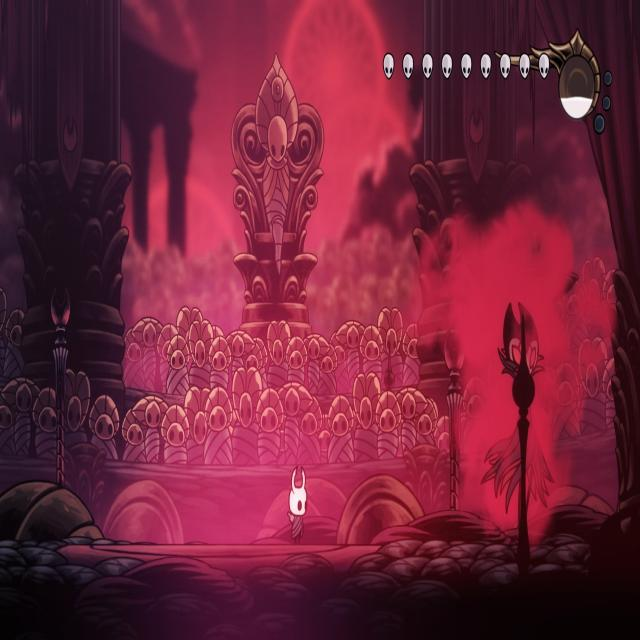Grimm: (476, 304, 556, 537)
Player: (285, 460, 309, 546)
